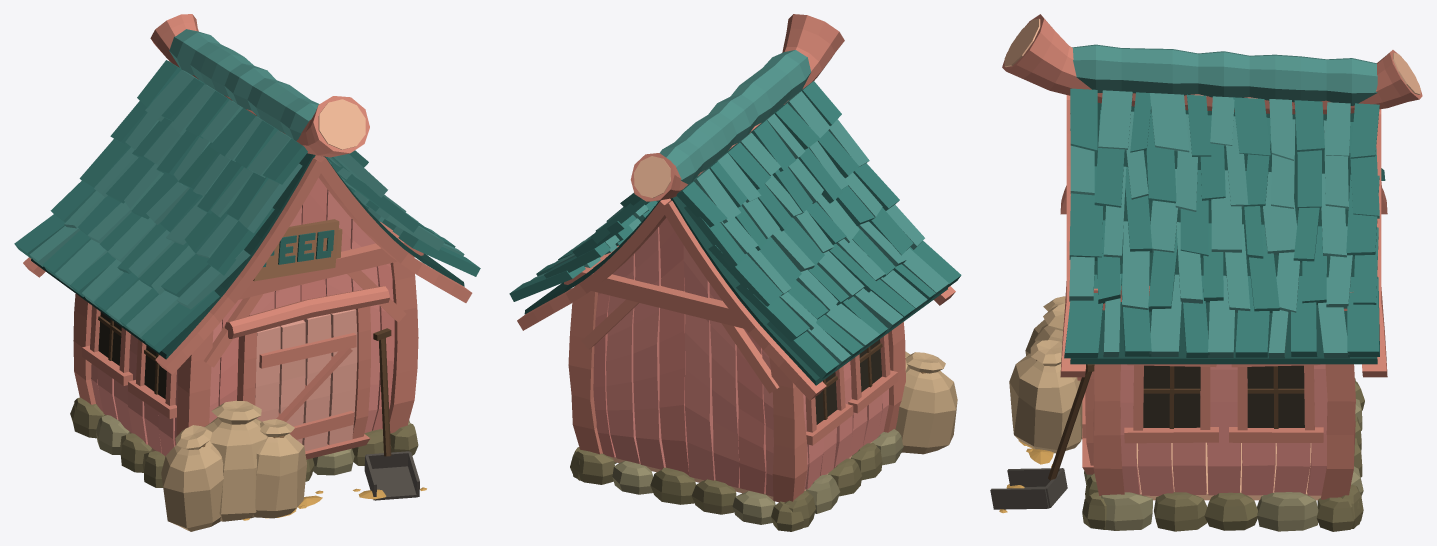
File: feed-store-charming.glb
The picture shows the model from 3 angles, left to right: view 1: azimuth 30°, elevation 25°; view 2: azimuth 150°, elevation 25°; view 3: azimuth 270°, elevation 25°; orthographic projection. The views are drawn at different scales.
Visible parts, largest first — view 1: roof_left, frame, roof_left_light, sacks, door, walls, ridge_roll, gables, footing, door_ledges, roof_edges, lintel (+11 smaller); view 2: roof_left, walls, frame, roof_left_light, gables, ridge_roll, footing, sacks, footing_light, roof_right, ridge_log, roof_edges (+4 smaller); view 3: roof_right, roof_right_light, walls, ridge_roll, frame, sacks, roof_edges, footing, window_glass, window_frames, ridge_log, footing_light (+5 smaller).
Part boxes in pixels (box(x1,y1,x2,y2)): roof_left: box(14, 60, 307, 352); frame: box(23, 155, 472, 459); roof_left_light: box(29, 70, 302, 340); sacks: box(161, 400, 306, 531); door: box(255, 309, 357, 451); walls: box(91, 189, 380, 456); ridge_roll: box(169, 29, 319, 140); gables: box(218, 177, 394, 430); footing: box(70, 397, 418, 487); door_ledges: box(259, 333, 356, 439); roof_edges: box(31, 153, 464, 359); lintel: box(225, 286, 389, 338); roof_left: box(676, 81, 961, 379); walls: box(606, 227, 888, 496); frame: box(517, 198, 955, 502); roof_left_light: box(693, 91, 948, 367); gables: box(593, 217, 766, 493); ridge_roll: box(660, 50, 810, 184); footing: box(570, 443, 912, 531); sacks: box(895, 351, 957, 454); footing_light: box(612, 429, 903, 524); roof_right: box(509, 193, 657, 301); ridge_log: box(630, 14, 844, 201); roof_edges: box(524, 196, 947, 385); roof_right: box(1064, 88, 1379, 358); roof_right_light: box(1069, 90, 1352, 358); walls: box(1120, 364, 1327, 495); ridge_roll: box(1072, 44, 1377, 105); frame: box(1060, 95, 1387, 499); sacks: box(1009, 296, 1082, 453); roof_edges: box(1070, 102, 1377, 364); footing: box(1082, 378, 1364, 531); window_glass: box(1143, 365, 1304, 427); window_frames: box(1124, 364, 1323, 443); ridge_log: box(1002, 14, 1422, 114); footing_light: box(1084, 399, 1363, 531).
Bounding box in the file's own units: 3.64 × 4.28 × 3.66.
